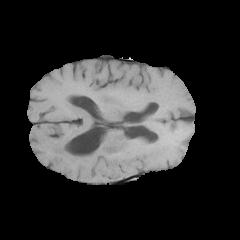glioma: (47, 115, 180, 176)
